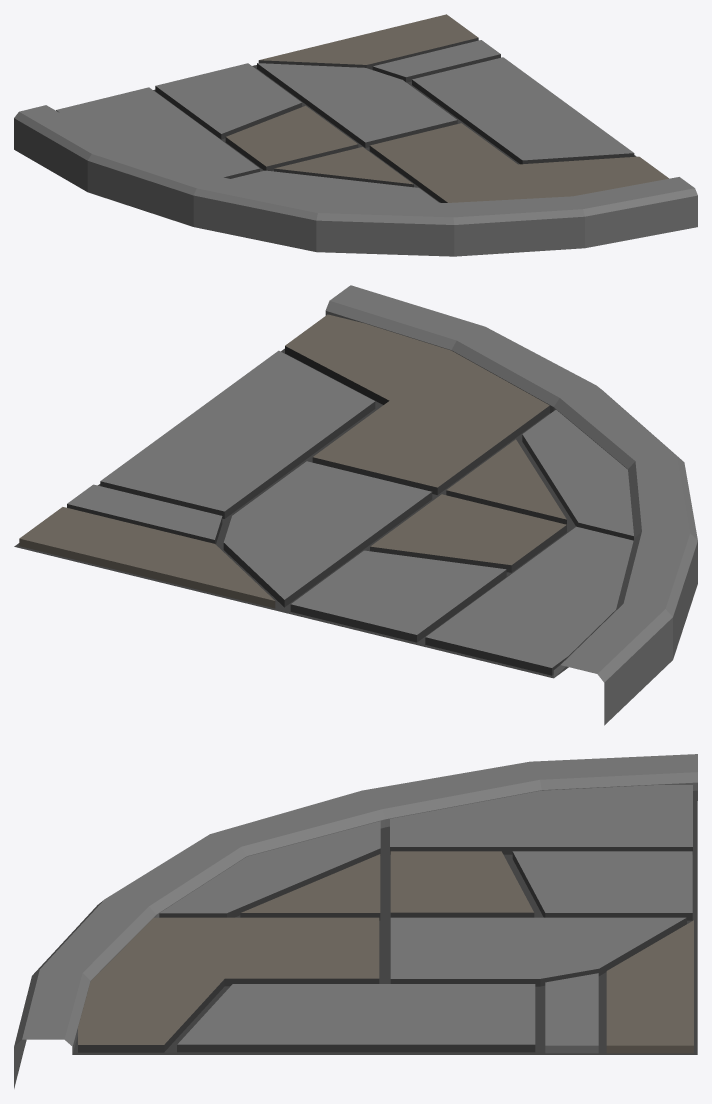
The model's file is Walkway Modern B - 3.fbx.
The picture shows the model from 3 angles, top to bottom: view 1: azimuth 30°, elevation 25°; view 2: azimuth 150°, elevation 25°; view 3: azimuth 270°, elevation 25°; orthographic projection. The views are drawn at different scales.
Visible parts, largest first — view 1: Walkway Modern B - 4.001; view 2: Walkway Modern B - 4.001; view 3: Walkway Modern B - 4.001.
Part boxes in pixels (x1,y1,x2,y2): Walkway Modern B - 4.001: (14, 14, 697, 256); Walkway Modern B - 4.001: (14, 285, 697, 725); Walkway Modern B - 4.001: (14, 754, 697, 1088).
Bounding box in the file's own units: 333 × 333 × 27.01.
